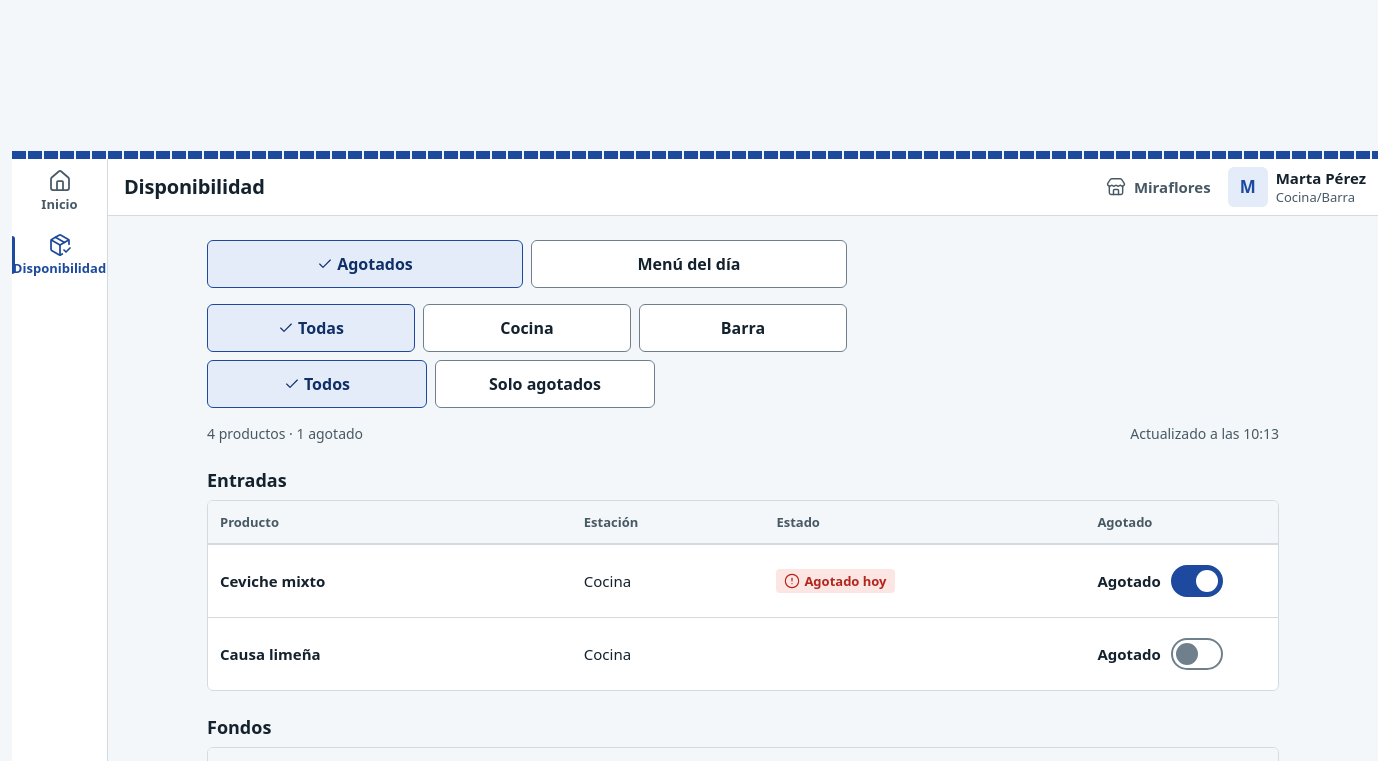
Agotados: filtros › "Solo agotados" deja los agotados y cuenta cuántos hay
(page scrolled)
Check: the element "Entradas" is shown, box [207, 460, 1279, 691]
Click the button "Solo agotados" at (545, 384), box [435, 360, 655, 408]
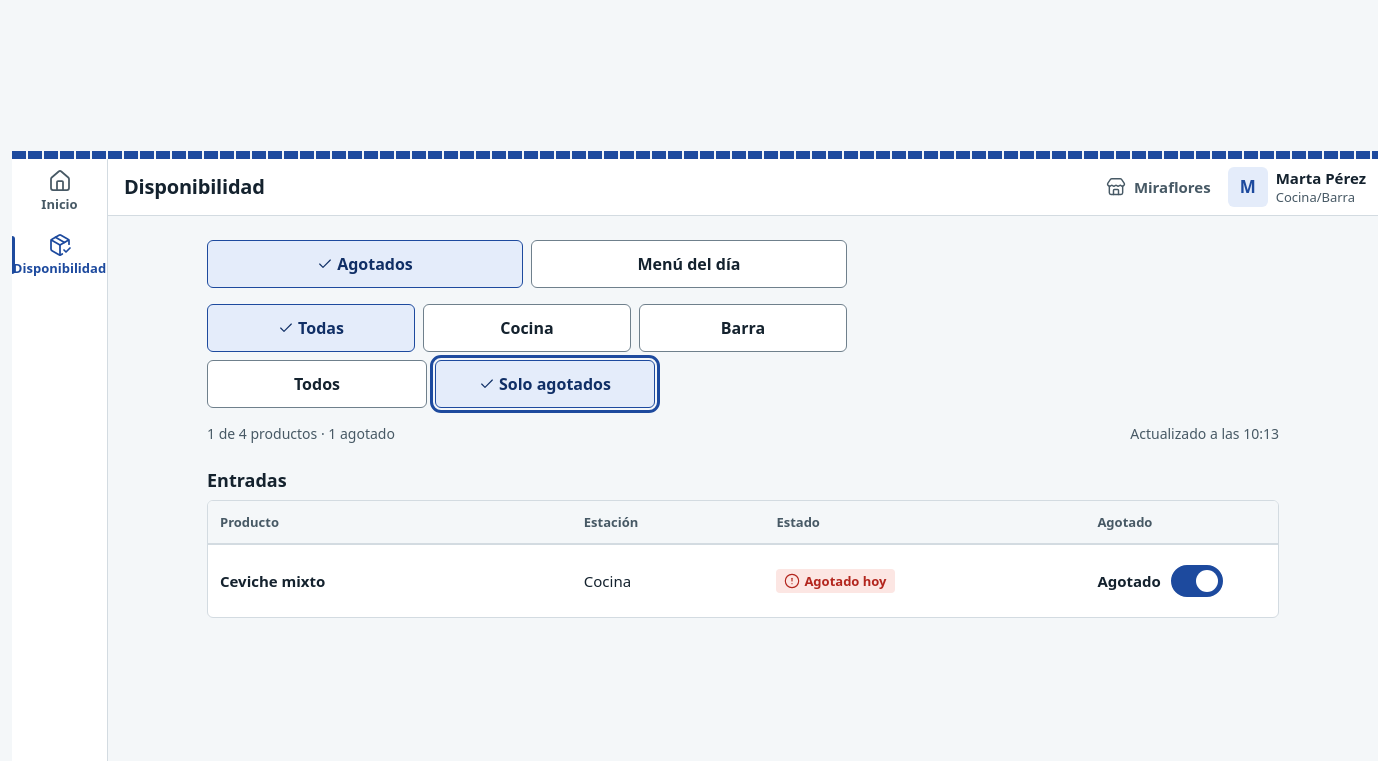
Check: the text "Causa limeña" is gone
Check: the heading "Fondos" is gone
Check: the text "1 de 4 productos · 1 agotado" is shown, box [207, 424, 395, 444]
